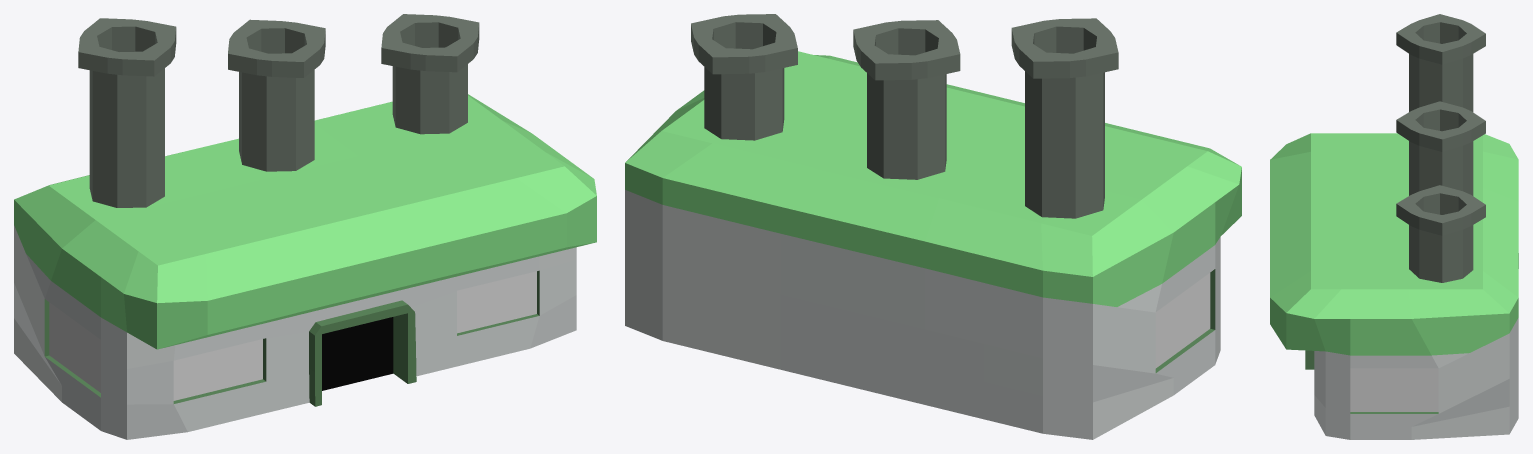
Rendered from Building.fbx.
3 renders of one model, left to right at view 1: azimuth 30°, elevation 25°; view 2: azimuth 150°, elevation 25°; view 3: azimuth 270°, elevation 25°, orthographic. The views are drawn at different scales.
Visible parts, largest first — view 1: Cube, Cube.001, Cube.002, Cube.003; view 2: Cube, Cube.001, Cube.002, Cube.003; view 3: Cube, Cube.003, Cube.001, Cube.002.
Boxes of the visible parts, bbox=[...] form: Cube: bbox=[14, 94, 596, 439]; Cube.001: bbox=[78, 18, 176, 207]; Cube.002: bbox=[228, 19, 325, 171]; Cube.003: bbox=[381, 14, 479, 134]; Cube: bbox=[625, 51, 1241, 439]; Cube.001: bbox=[1011, 18, 1118, 218]; Cube.002: bbox=[853, 20, 960, 179]; Cube.003: bbox=[691, 14, 797, 140]; Cube: bbox=[1270, 133, 1518, 439]; Cube.003: bbox=[1396, 185, 1485, 282]; Cube.001: bbox=[1396, 14, 1485, 111]; Cube.002: bbox=[1396, 101, 1485, 195].
Bounding box in the file's own units: 1389 × 928 × 809.
